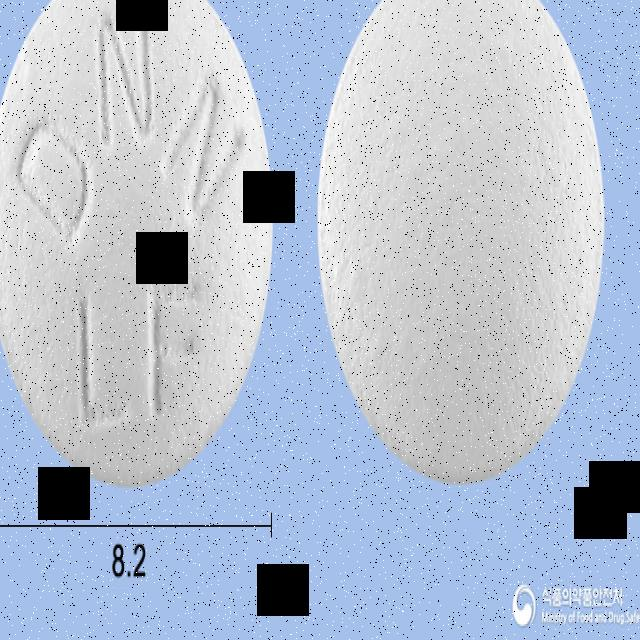Levoflcin: (0, 0, 275, 488)
